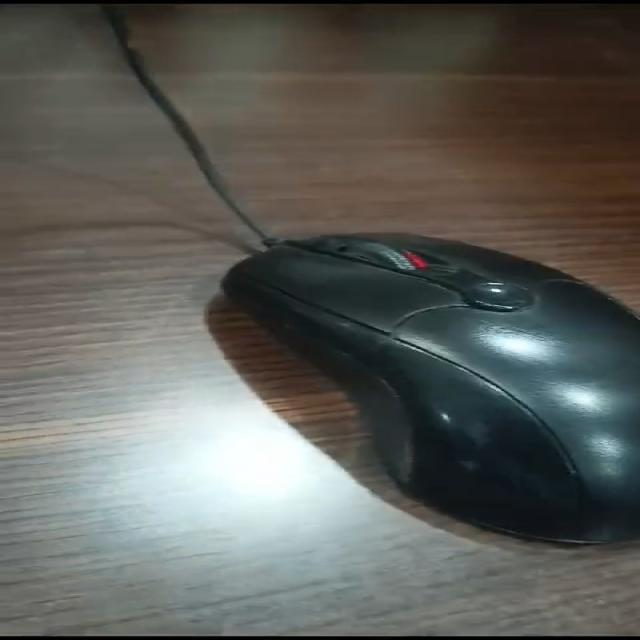Mouse: (179, 220, 640, 598)
